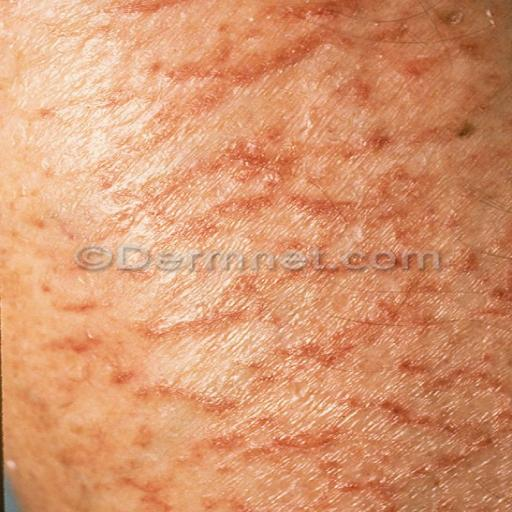Skin_Lesion: (196, 436, 390, 506), (121, 271, 277, 348), (181, 148, 307, 227), (312, 179, 442, 255), (116, 362, 244, 428), (304, 335, 392, 424), (365, 286, 511, 330), (181, 36, 276, 102), (47, 329, 101, 366)
